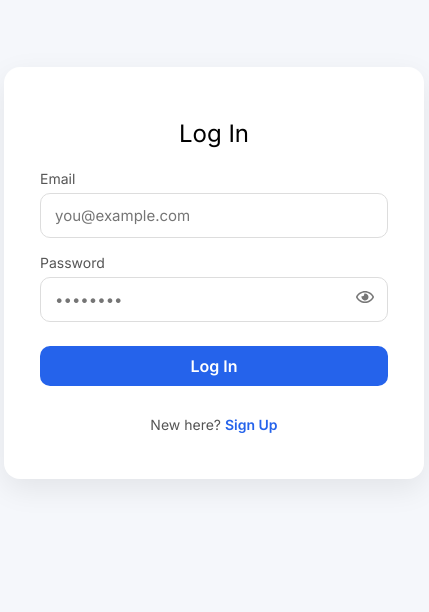
Test: показує помилку якщо паролі не співпадають
Click the text "Sign Up".
click(251, 424)  # box [225,416,278,433]
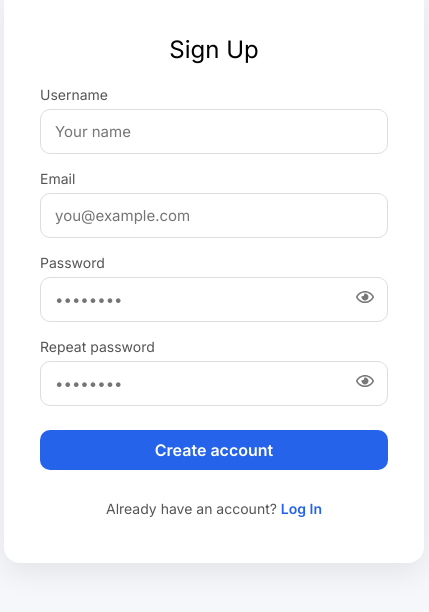
Type "User" into the field with placeholder "Your name".
click(214, 132); type("User")  # box [40,109,388,154]
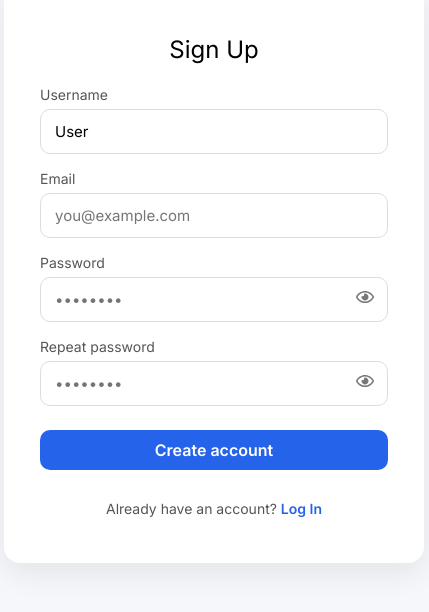
Type "a@b.com" into the field with placeholder "you@example.com".
click(214, 216); type("a@b.com")  # box [40,193,388,238]
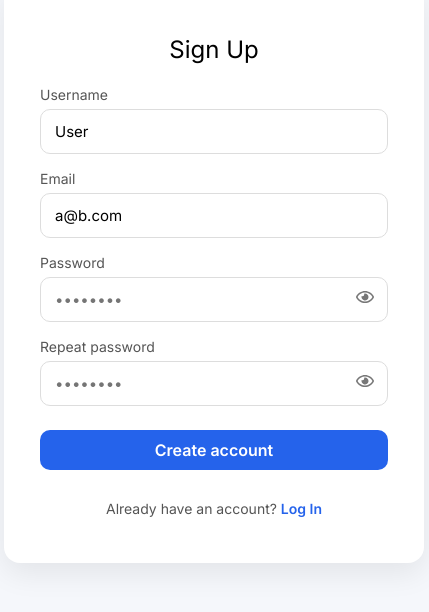
Type "pass123" into the 1st password field with placeholder "••••••••".
click(214, 300); type("pass123")  # box [40,277,388,322]
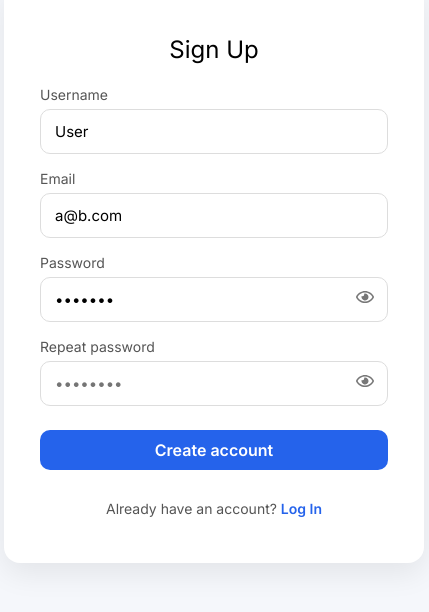
Type "different" into the password field with placeholder "••••••••".
click(214, 384); type("different")  # box [40,361,388,406]
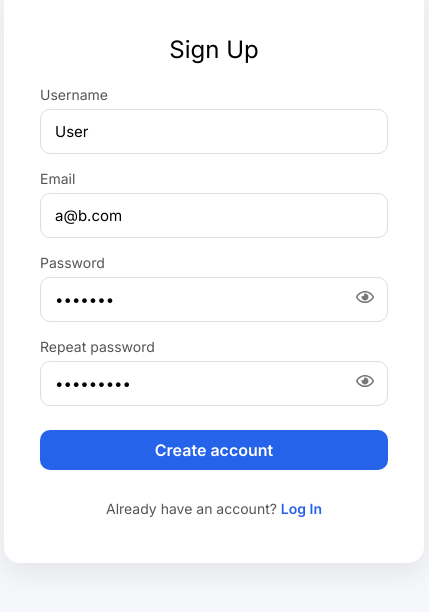
Click the button "Create account".
click(214, 450)  # box [40,430,388,470]
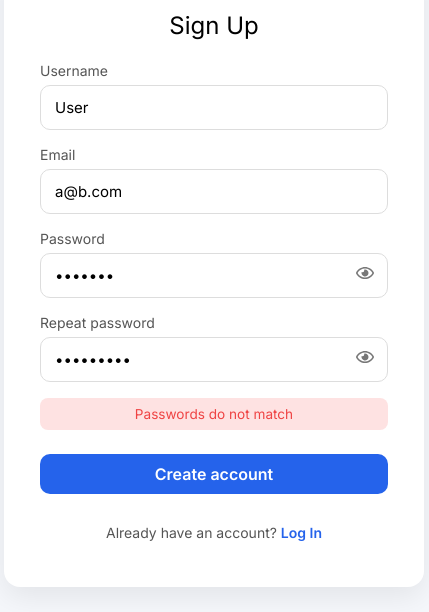
Now the text "Passwords do not match" is shown, box [40,398,388,430]
